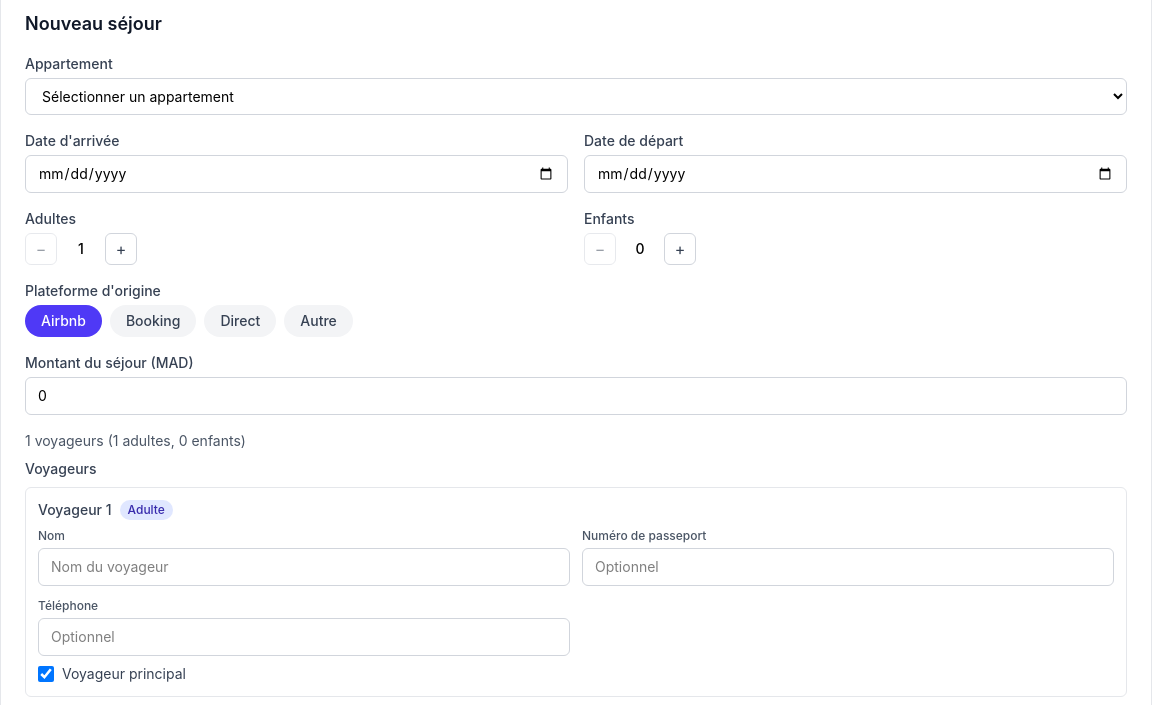
it: NouveauSejourForm › retire un voyageur via la croix, un enfant peut être retiré même si seul restant
Step 1. Click the button named "augmenter le nombre d'enfants" → (680, 249), box [664, 233, 696, 265]
(page scrolled)
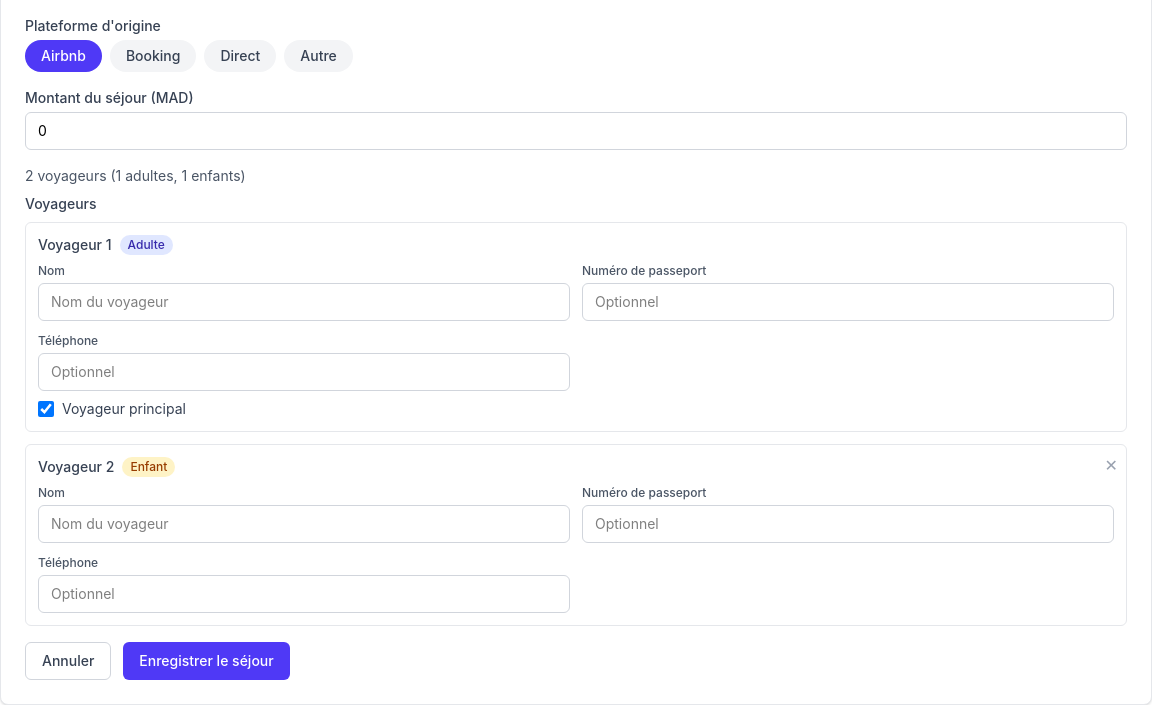
Step 2. Click the button named "Retirer le voyageur 2" → (1111, 465), box [1105, 453, 1118, 477]
(page scrolled)
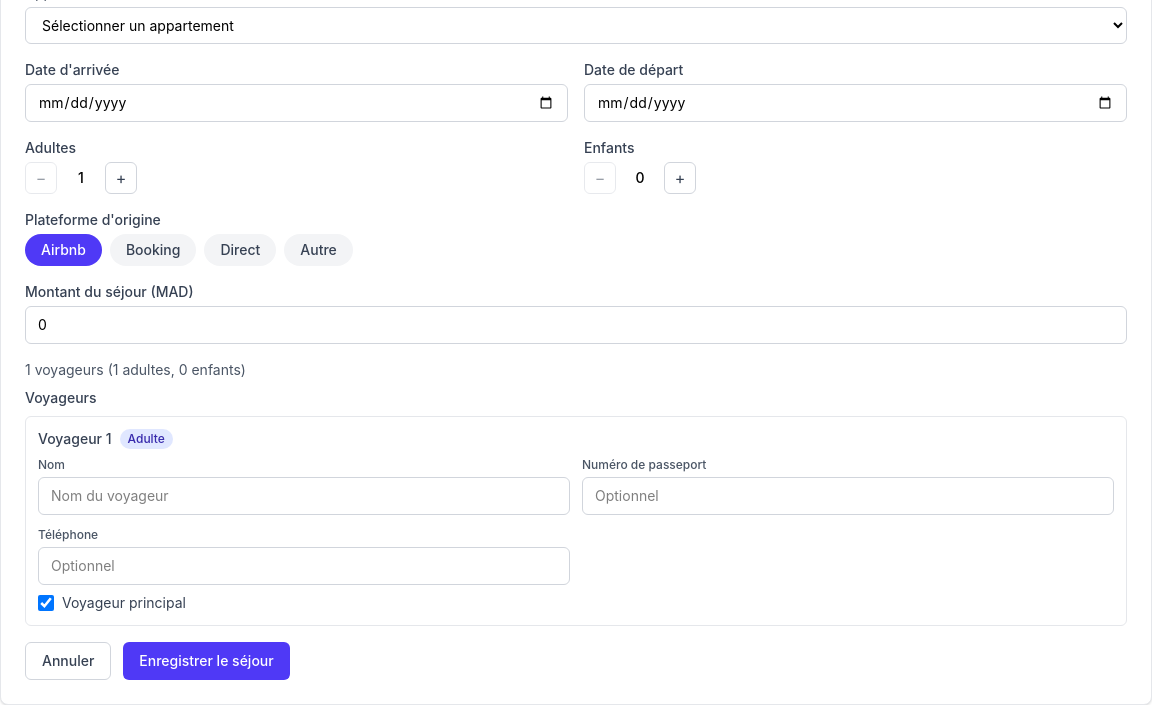
expect the text with test id "nombre-enfants" reads "0": met, box [636, 169, 644, 186]
